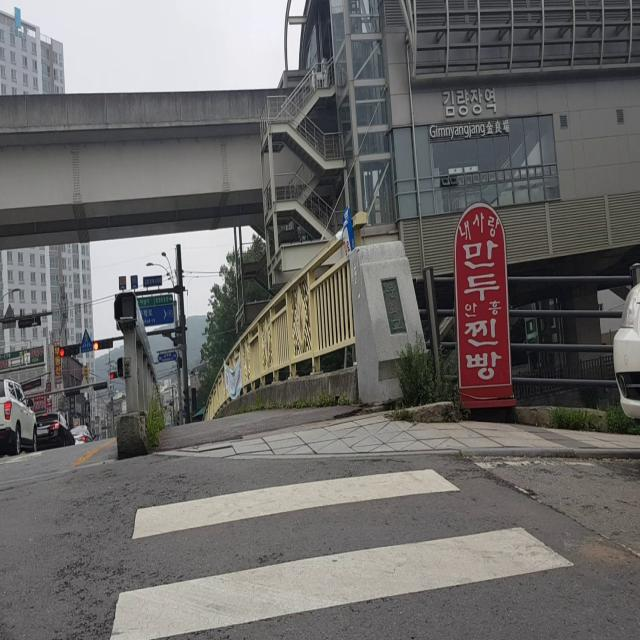횡단보도: (104, 464, 575, 640)
